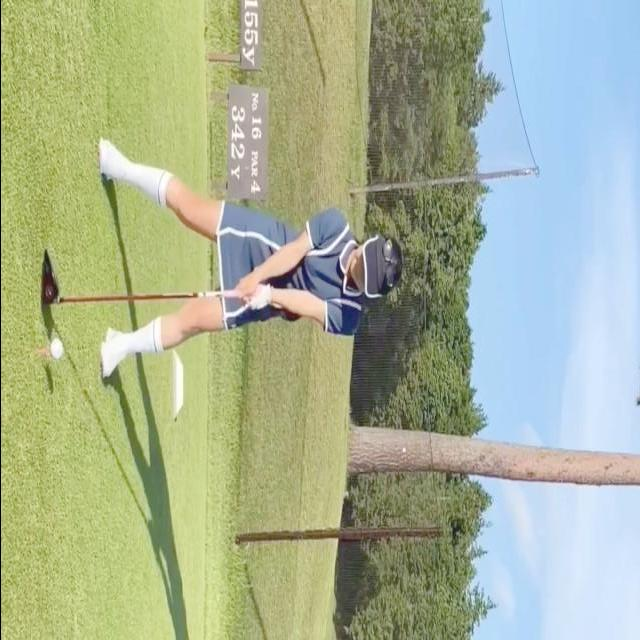ClubHandle: (39, 250, 239, 302)
ClubHead: (40, 249, 60, 302)
GolfBall: (48, 337, 62, 361)
